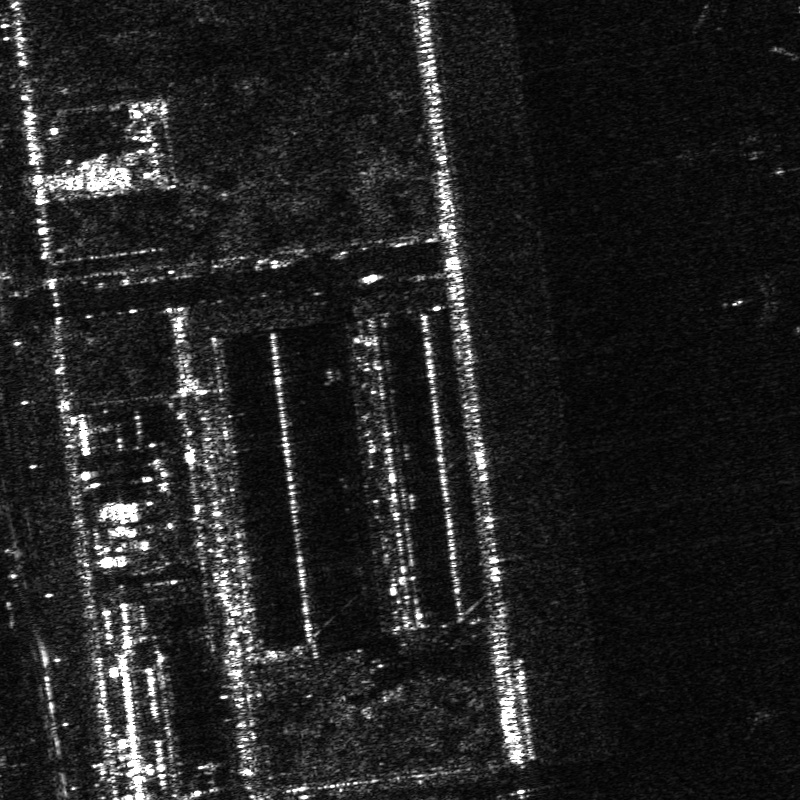Boeing787: (719, 263, 794, 331)
